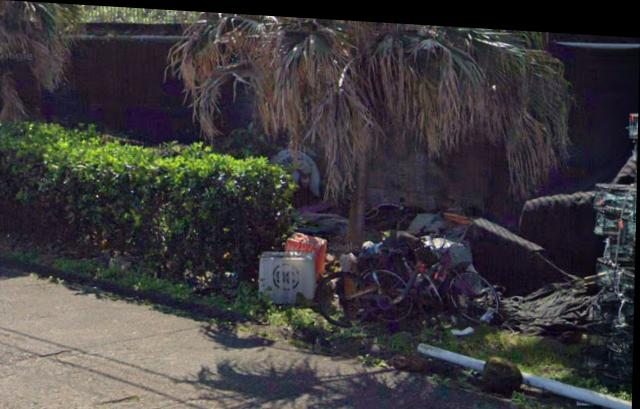pollute: (471, 111, 637, 353), (252, 226, 330, 304)
